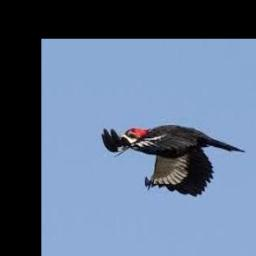Woodpecker: (102, 124, 246, 197)
